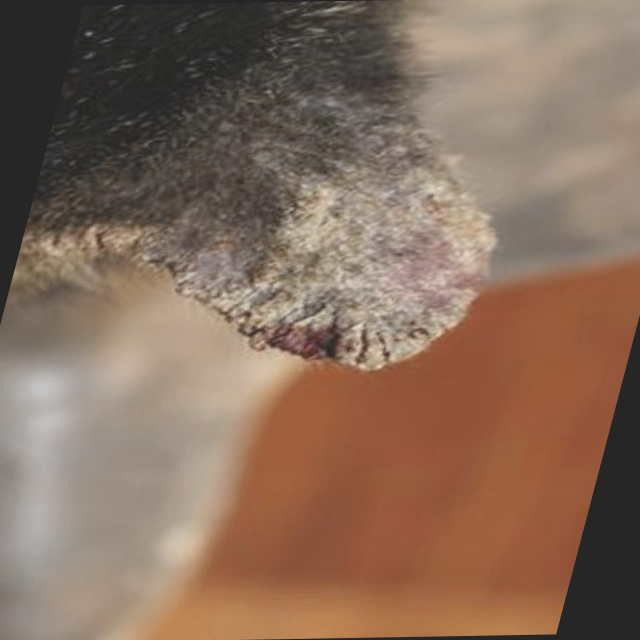ringworm: (209, 147, 504, 358)
